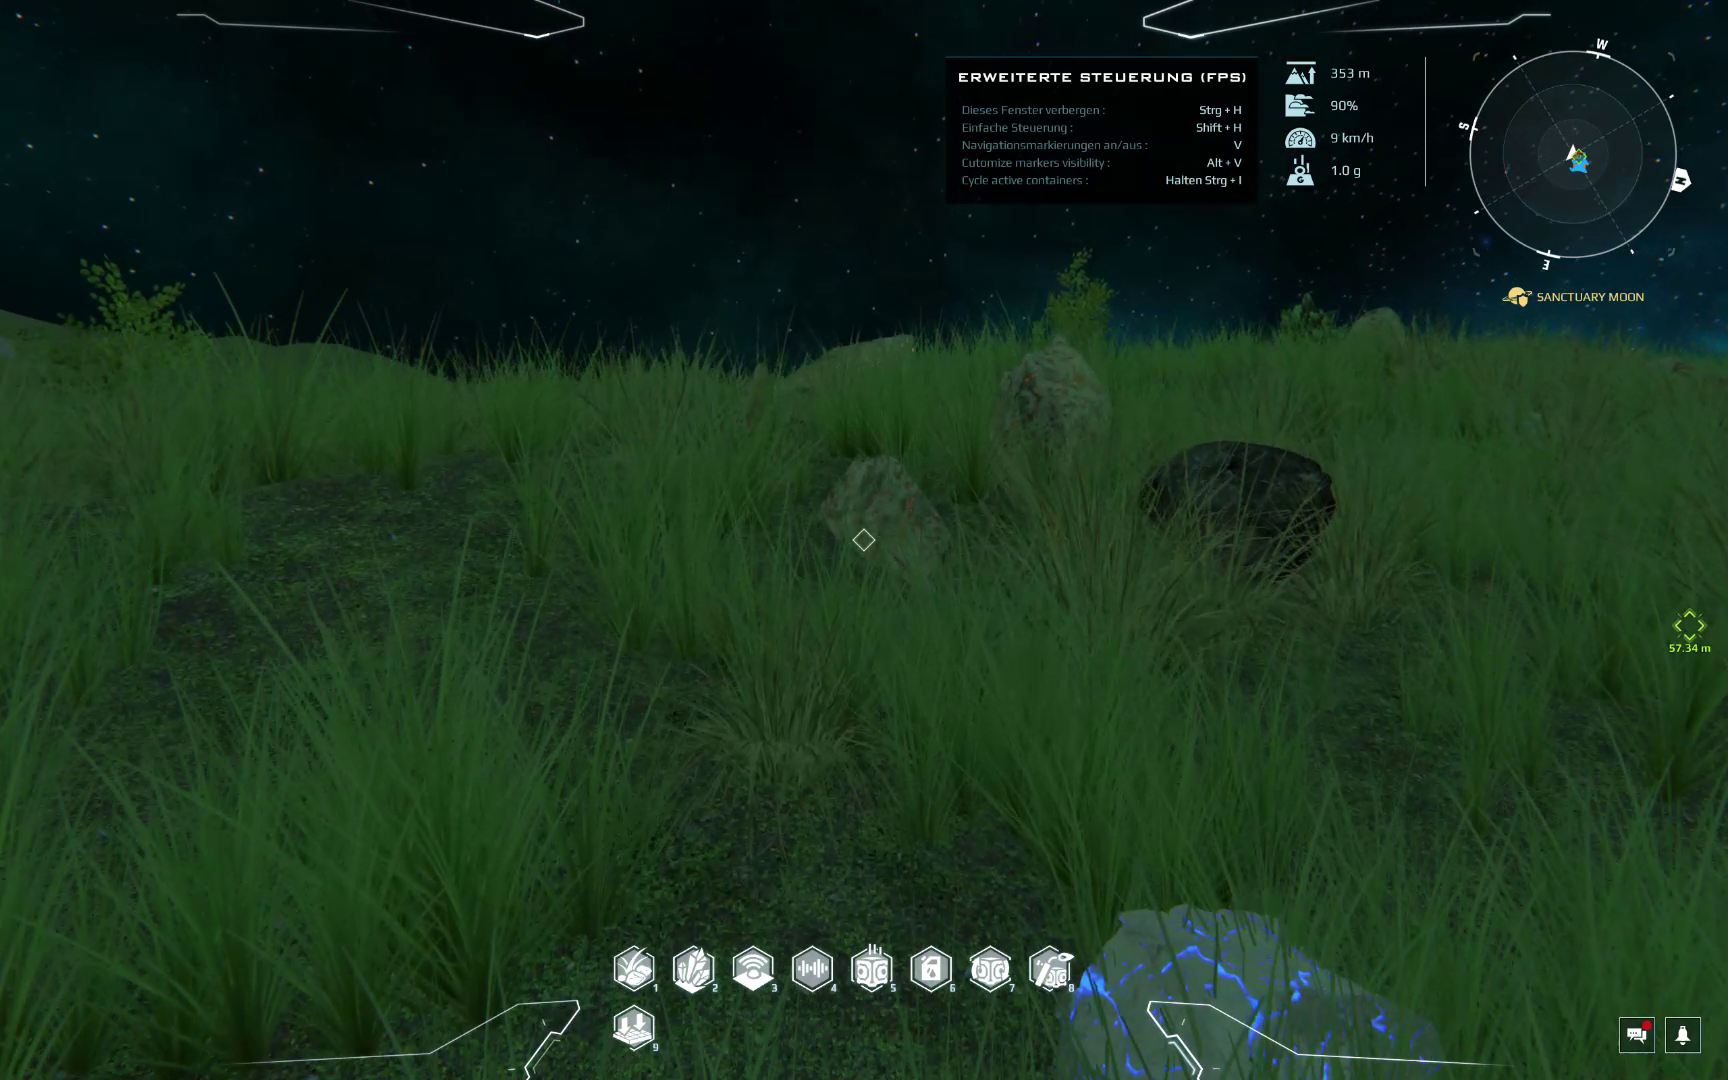Ore: (1052, 901, 1459, 1078), (1137, 440, 1339, 580), (992, 337, 1107, 493), (815, 455, 949, 574), (787, 333, 922, 396)
